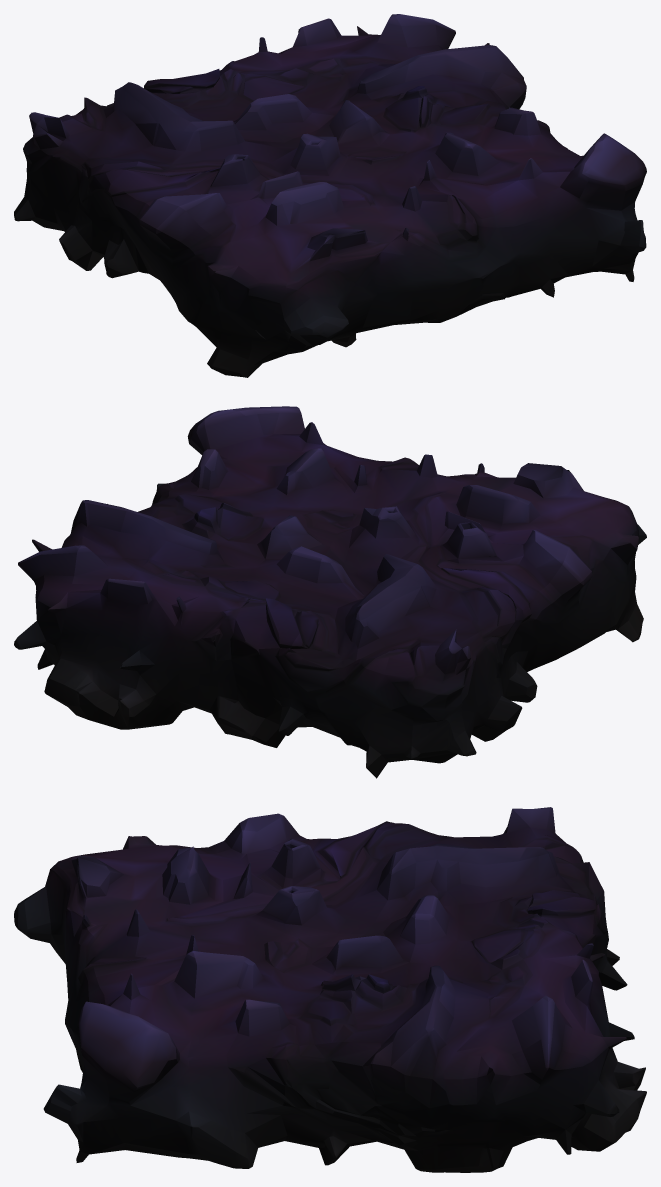
Rendered from CosChamps4_land.fbx.
3 renders of one model, top to bottom at view 1: azimuth 30°, elevation 25°; view 2: azimuth 150°, elevation 25°; view 3: azimuth 270°, elevation 25°, orthographic. The views are drawn at different scales.
Parts seen in each view (by area): view 1: cliffrock_generator59.038; view 2: cliffrock_generator59.038; view 3: cliffrock_generator59.038.
Boxes of the visible parts, <box> form: cliffrock_generator59.038: <box>14,14,646,377</box>; cliffrock_generator59.038: <box>14,406,646,778</box>; cliffrock_generator59.038: <box>14,807,646,1172</box>.
Bounding box in the file's own units: 5300 × 1744 × 5451.
